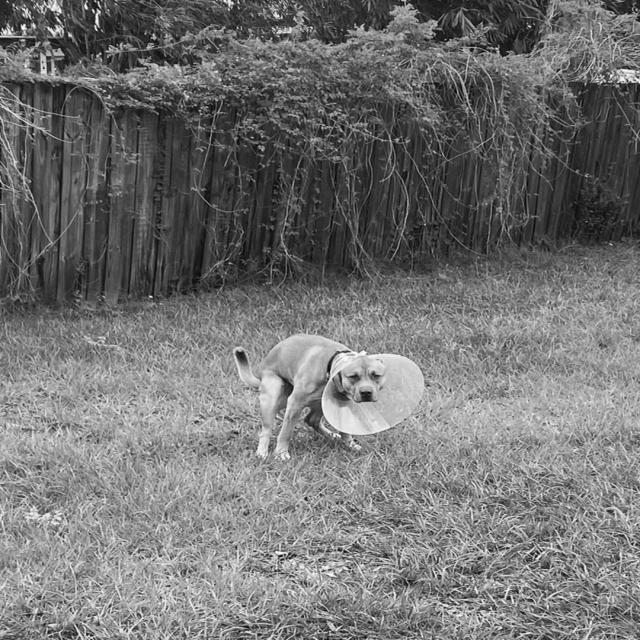squatting: (226, 328, 400, 464)
